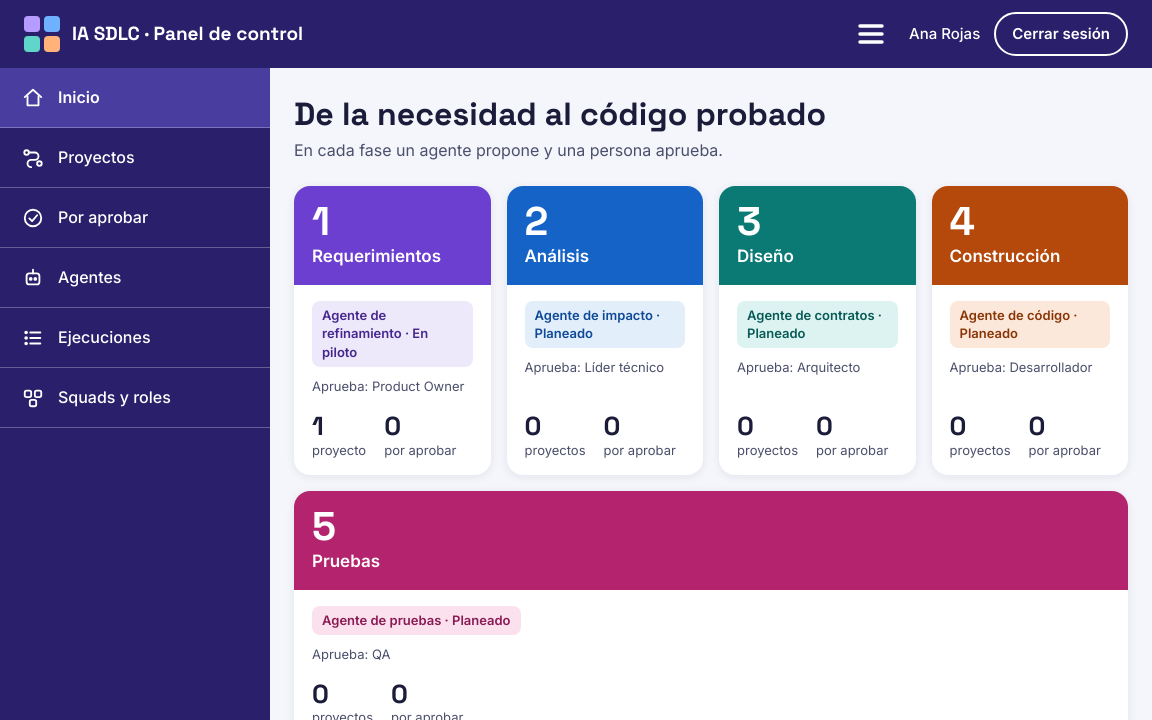
SideMenu › no se cierra al elegir una opción y resalta la activa
Click the link "Agentes": (90,277) [0, 248, 270, 308]
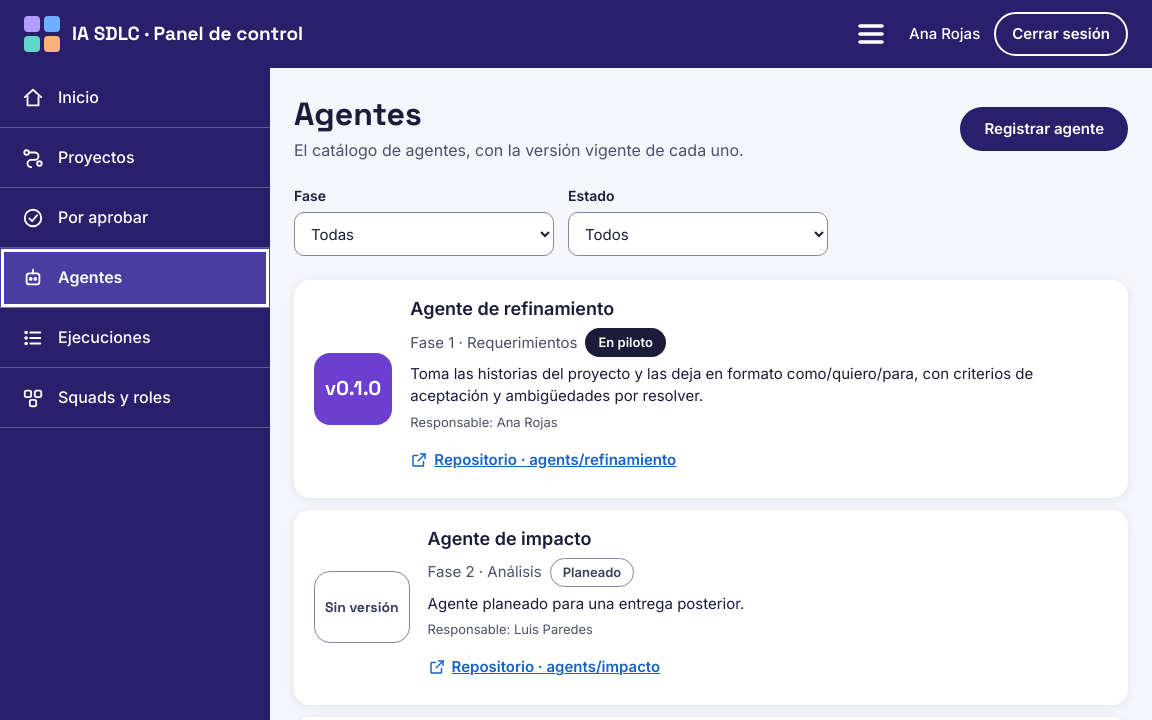
expect the heading "Agentes" is shown: met, box [294, 94, 422, 134]
Click the link "Squads y roles": (135,398) [0, 368, 270, 428]
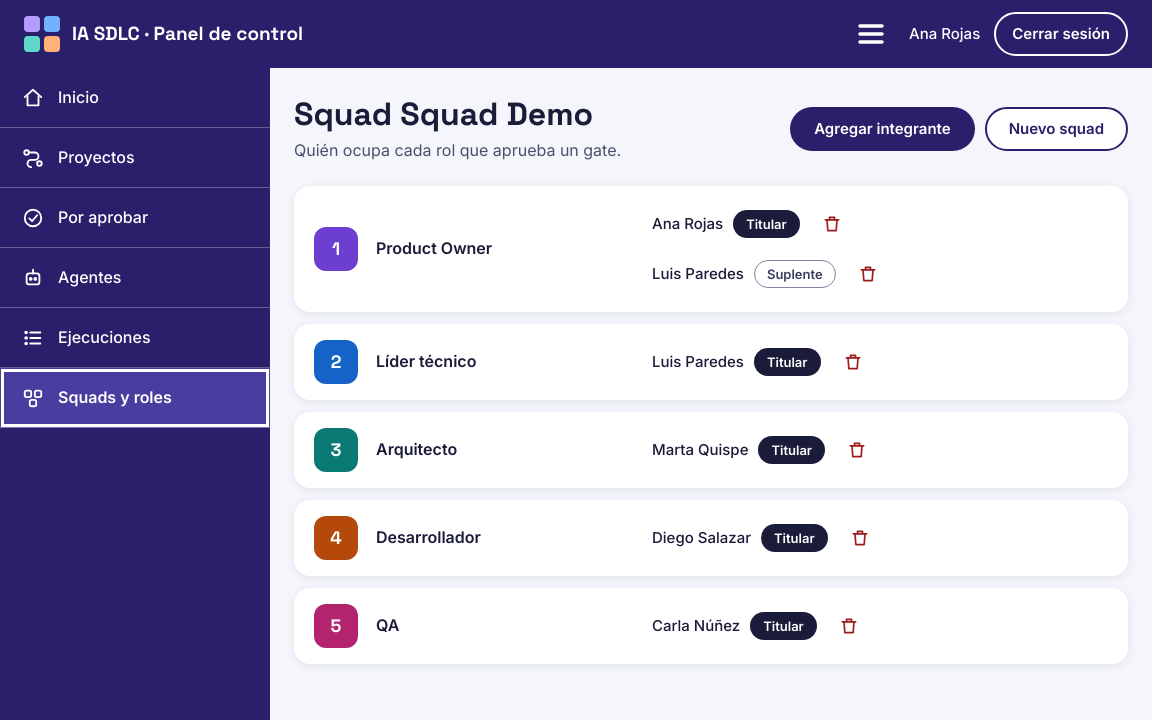
expect the navigation bar named "Menú" is shown: met, box [0, 68, 270, 719]
expect the heading "Squad Squad Demo" is shown: met, box [294, 96, 621, 133]
